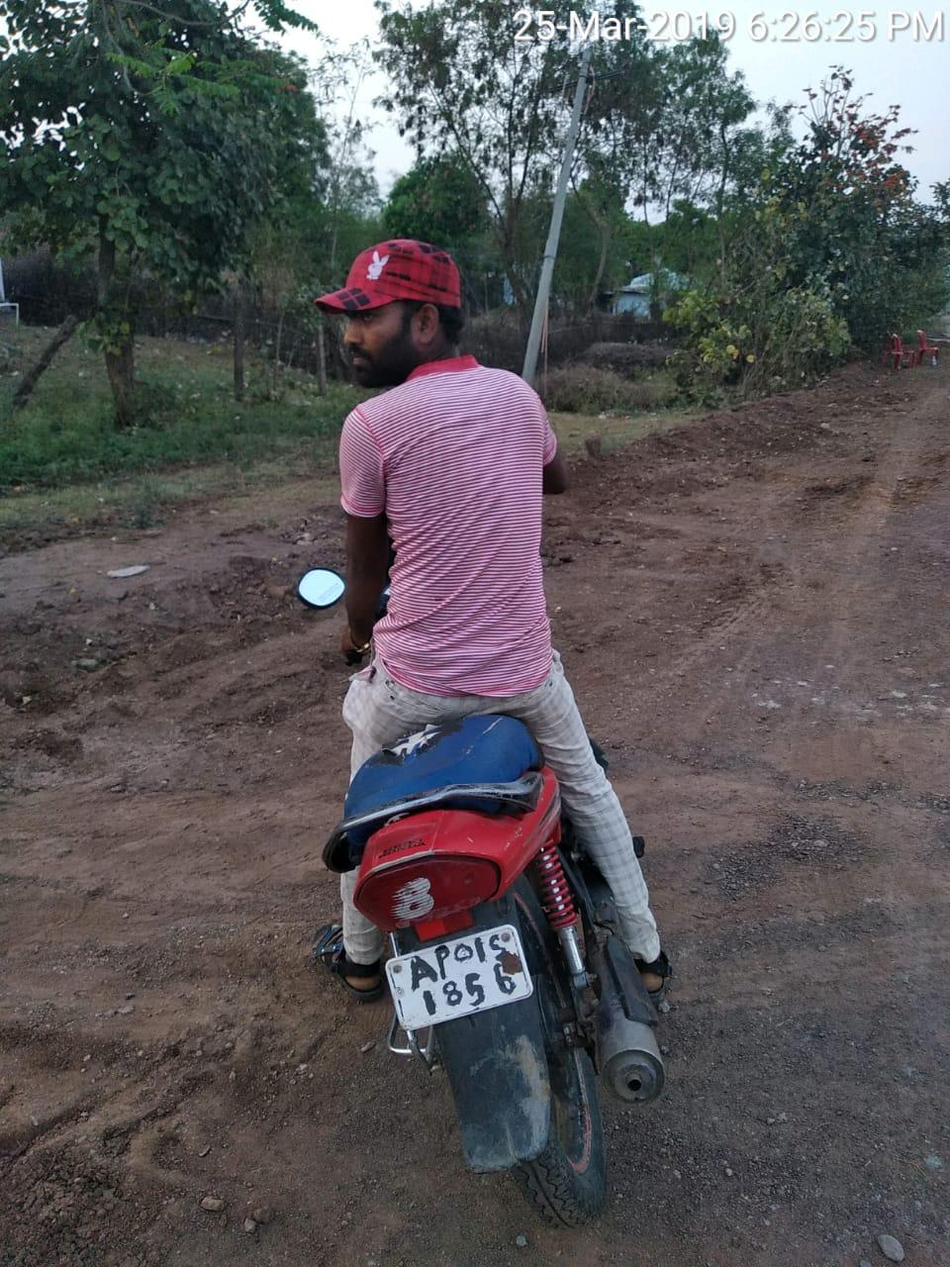plate: (368, 921, 546, 1035)
